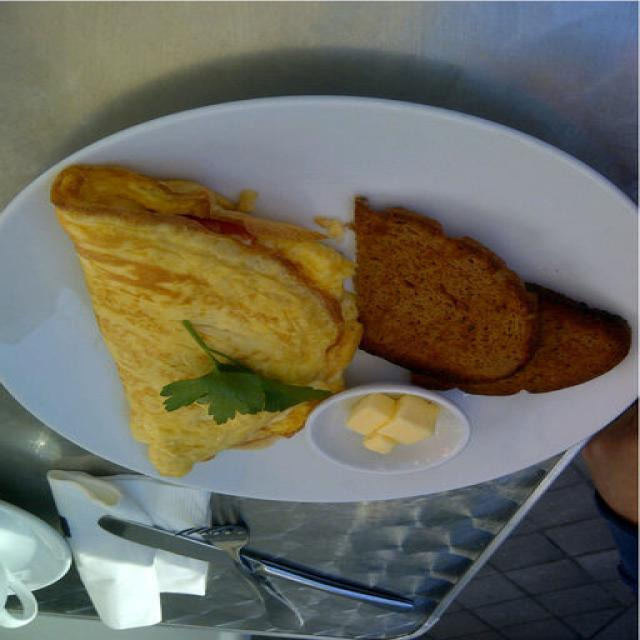telur_ayam_dadar: (48, 165, 362, 480)
